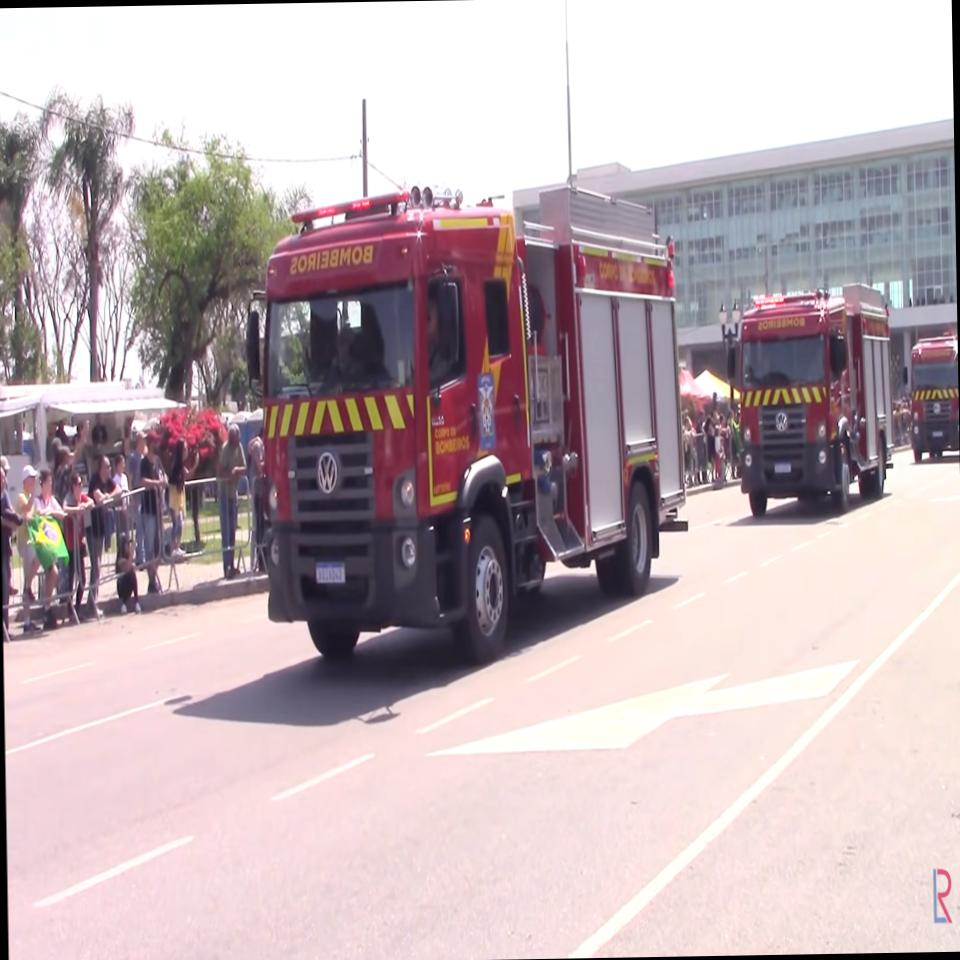viatura: (245, 181, 689, 662), (726, 283, 895, 514), (902, 336, 959, 463)
